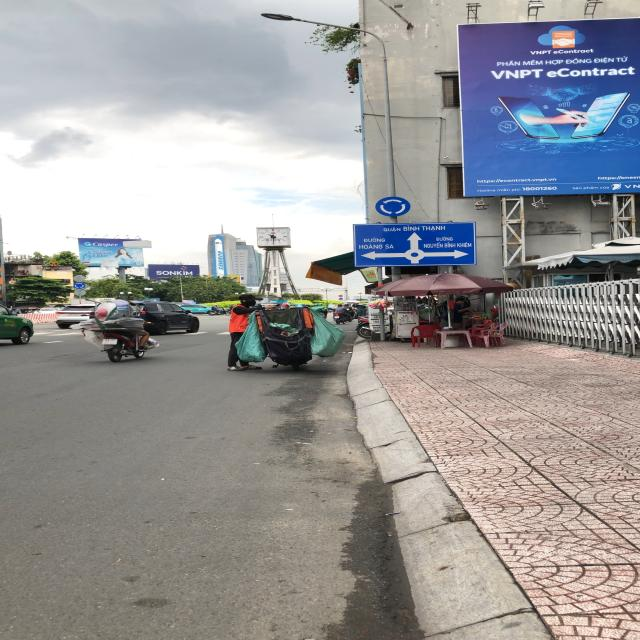Bien bao noi giao nhau chay theo vong xuyen: (372, 195, 414, 219), (72, 281, 86, 290)
